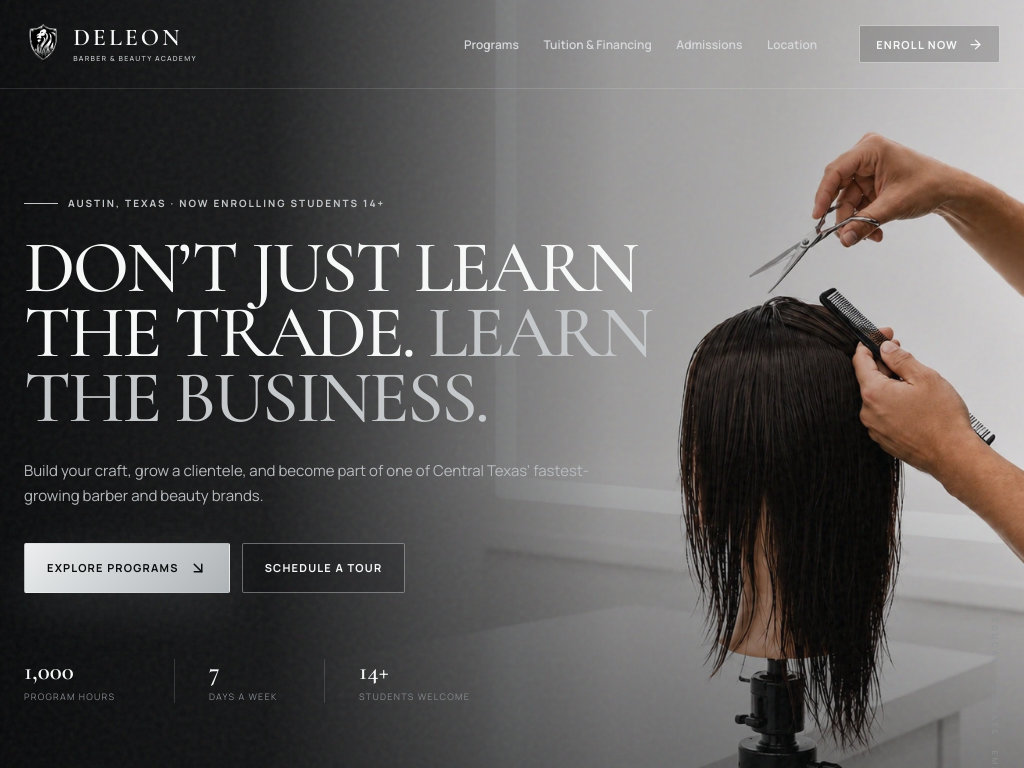
it: DeLeon Academy website › opens, validates, and completes the tour request flow
Click the button "Schedule a tour" at coordinates (324, 568), box [242, 543, 405, 593]
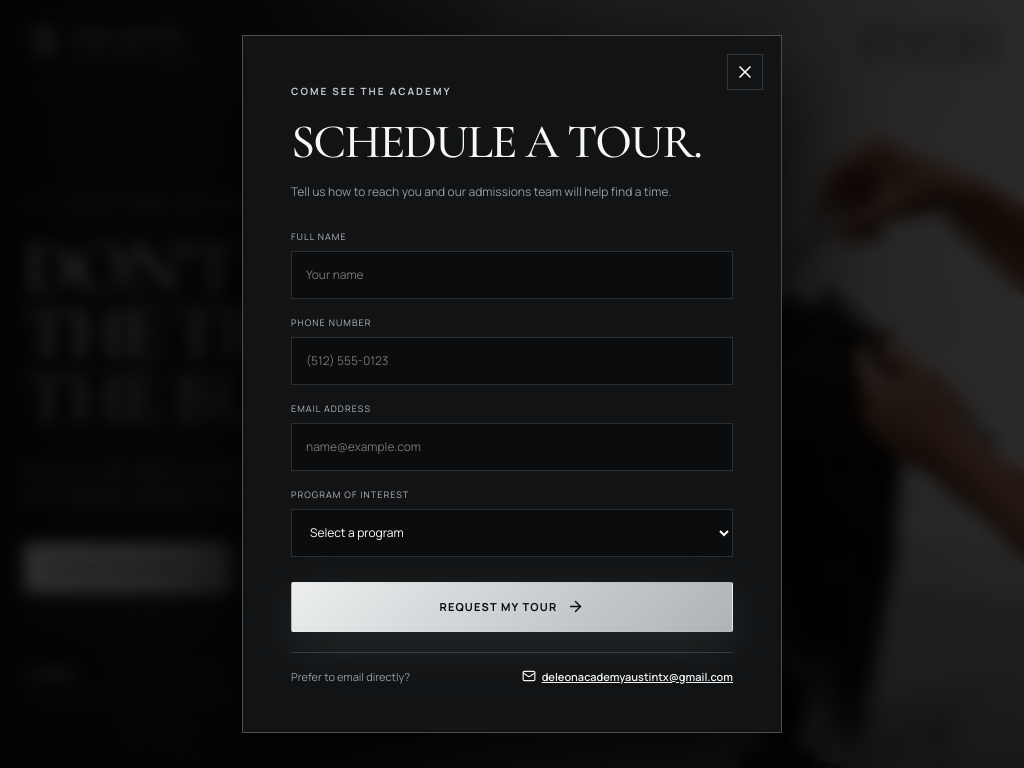
Expected: the dialog is shown, [242, 36, 782, 732]
Type "Jordan Lee" into the field labelled "Full name" at coordinates (512, 274), box [291, 250, 733, 298]
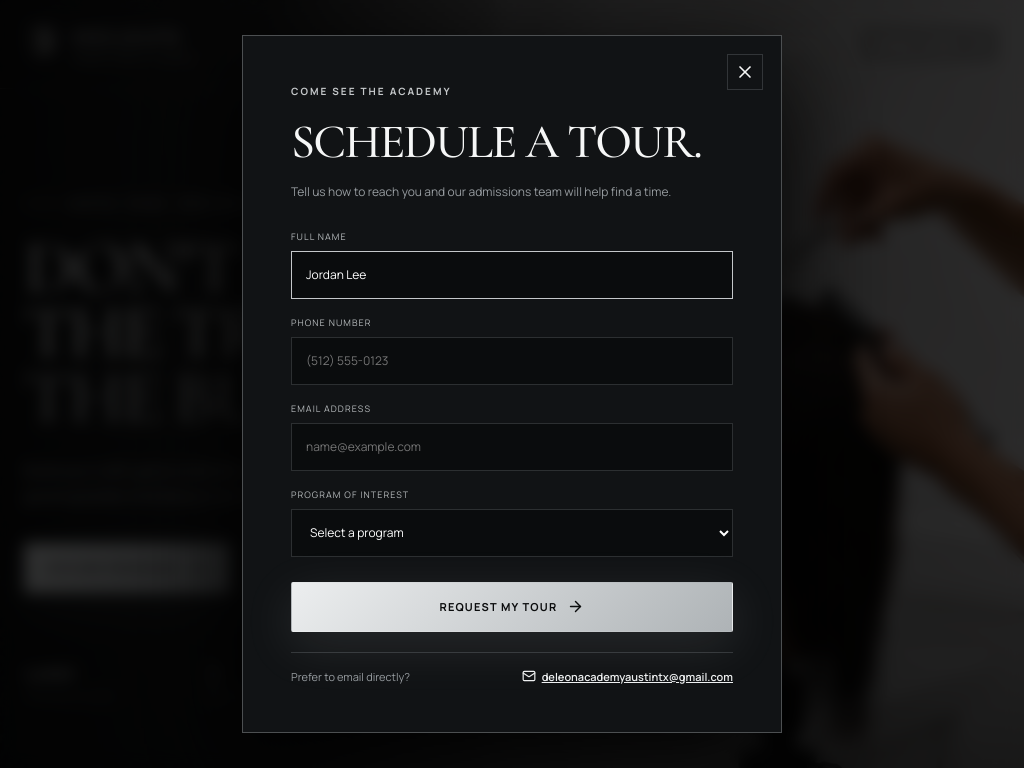
Type "5125550100" into the field labelled "Phone number" at coordinates (512, 360), box [291, 336, 733, 384]
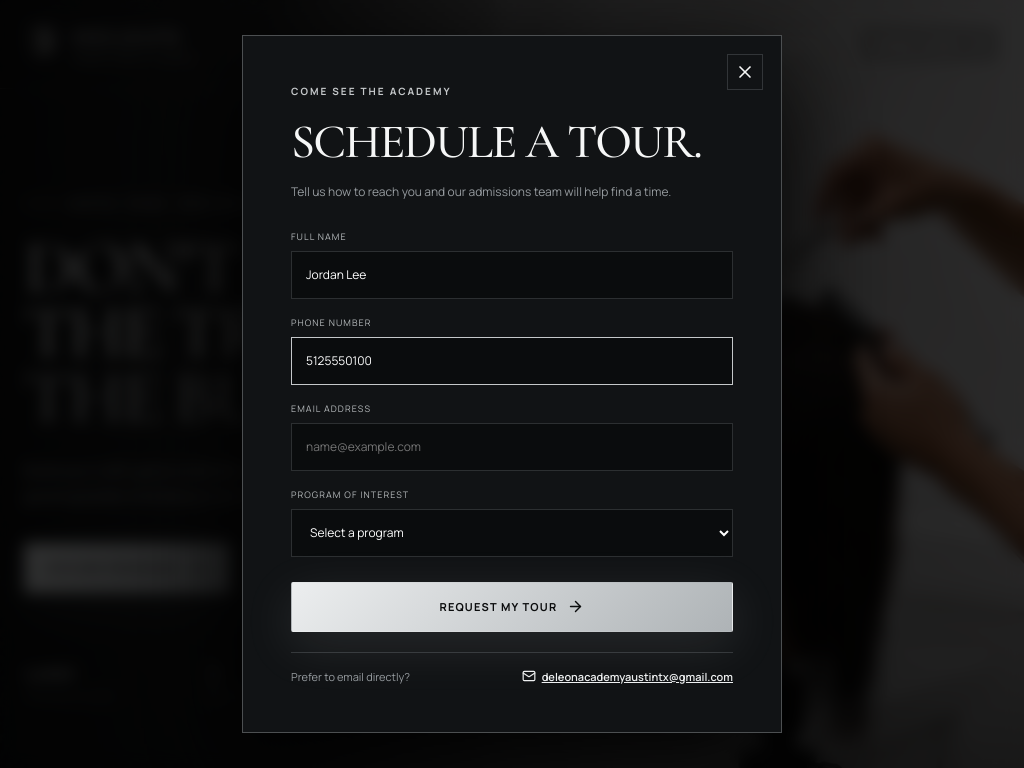
Type "jordan@example.com" into the field labelled "Email address" at coordinates (512, 446), box [291, 422, 733, 470]
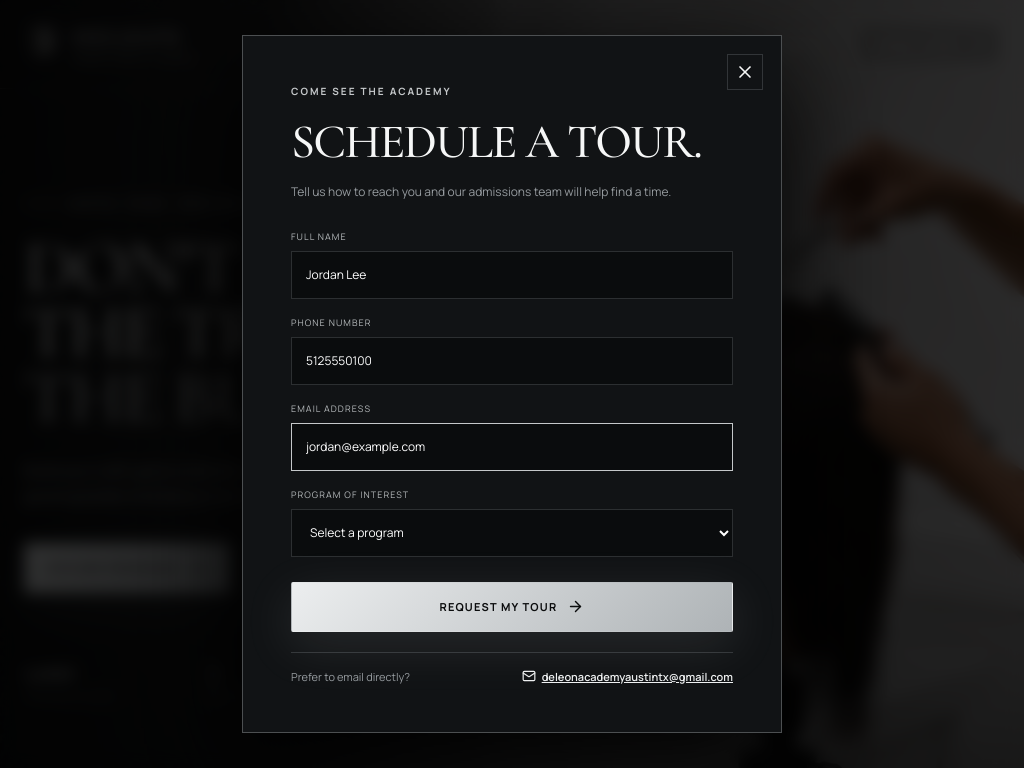
Select "Class A Barber" in the dropdown labelled "Program of interest" at coordinates (512, 532), box [291, 508, 733, 556]
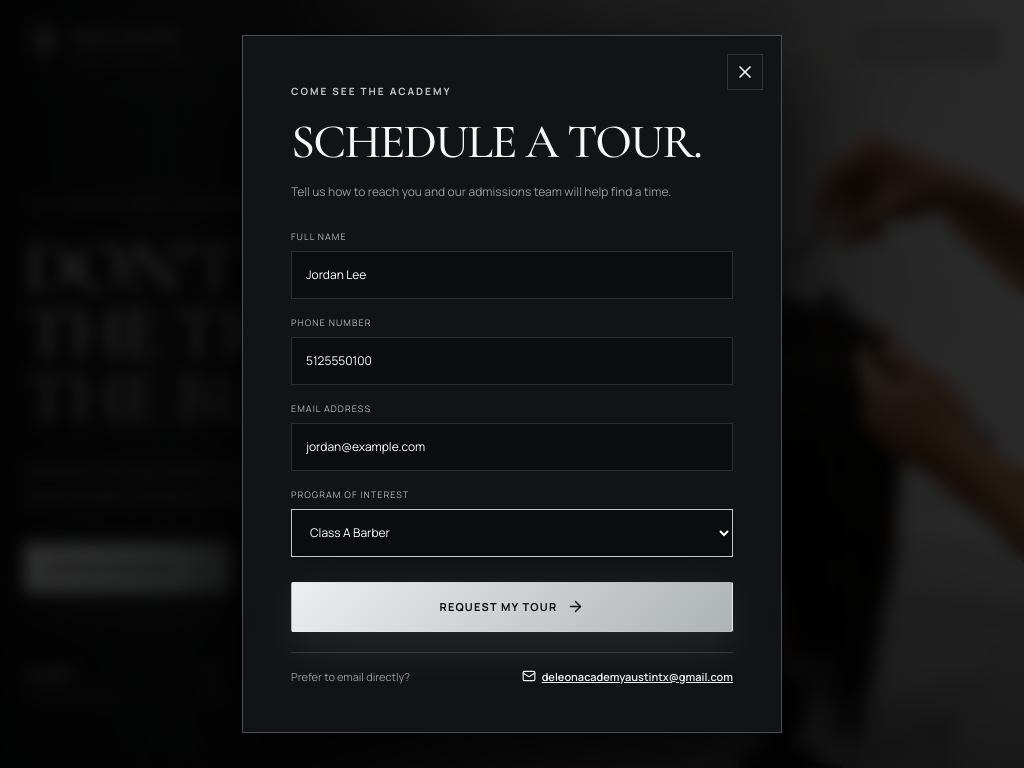
Click the button "Request my tour" at coordinates (512, 606), box [291, 582, 733, 632]
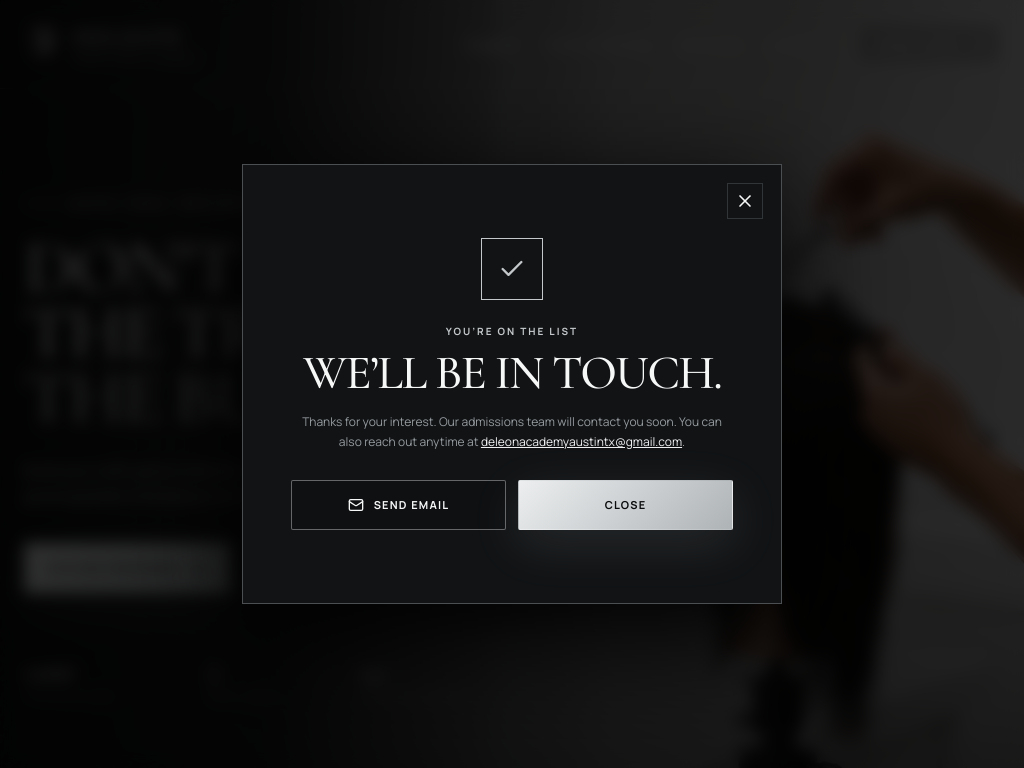
Expected: the heading "We’ll be in touch." is shown, [291, 352, 733, 394]
